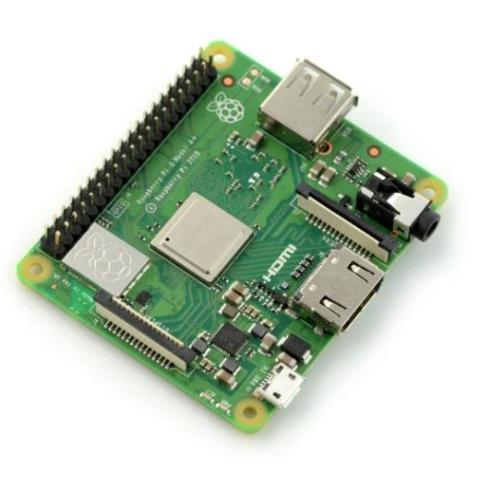Raspberry-Pi-3-Model-A-: (10, 33, 454, 443)
